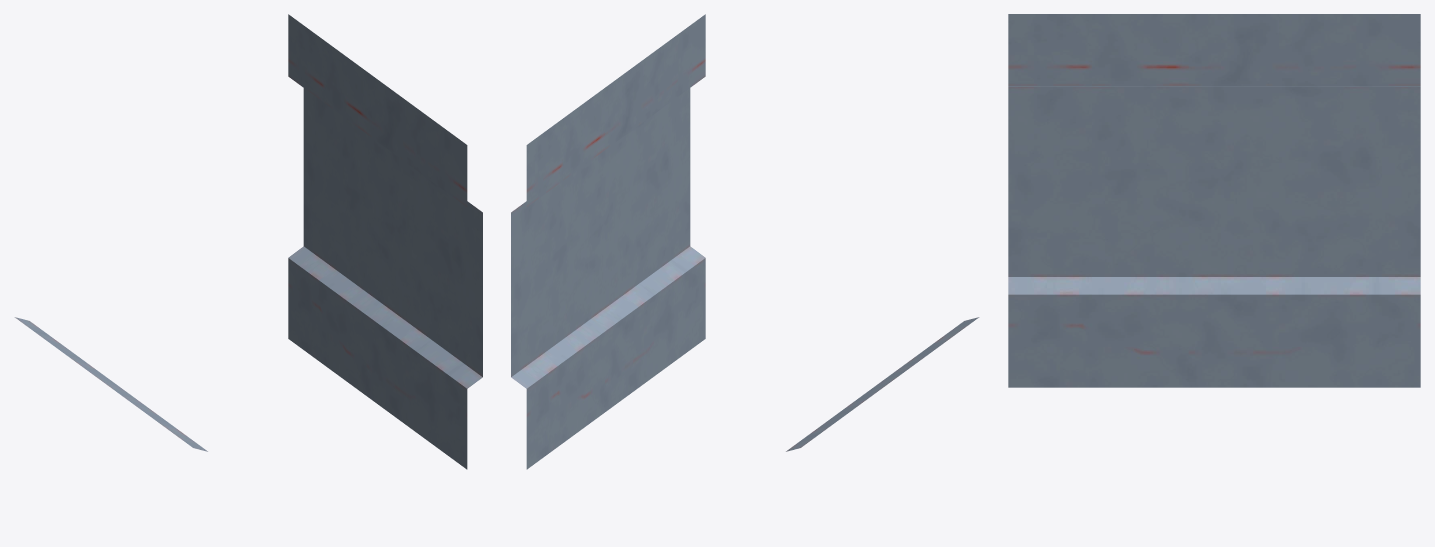
The model's file is Wall_Hallway_2.glb.
The picture shows the model from 3 angles, left to right: view 1: azimuth 30°, elevation 25°; view 2: azimuth 150°, elevation 25°; view 3: azimuth 270°, elevation 25°; orthographic projection. The views are drawn at different scales.
Parts seen in each view (by area): view 1: Wall_Hallway_2; view 2: Wall_Hallway_2; view 3: Wall_Hallway_2.
Part boxes in pixels (x1,y1,x2,y2): Wall_Hallway_2: [14, 14, 482, 469]; Wall_Hallway_2: [511, 14, 979, 469]; Wall_Hallway_2: [1008, 14, 1420, 387].
Size of the model in its own units: 5.6 by 6 by 6.
1 material, 1 textured.
